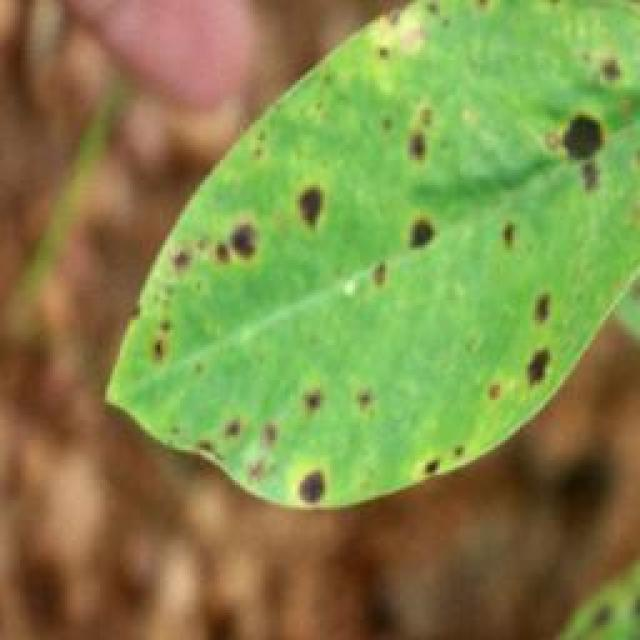Yellowish: (125, 32, 613, 516)
